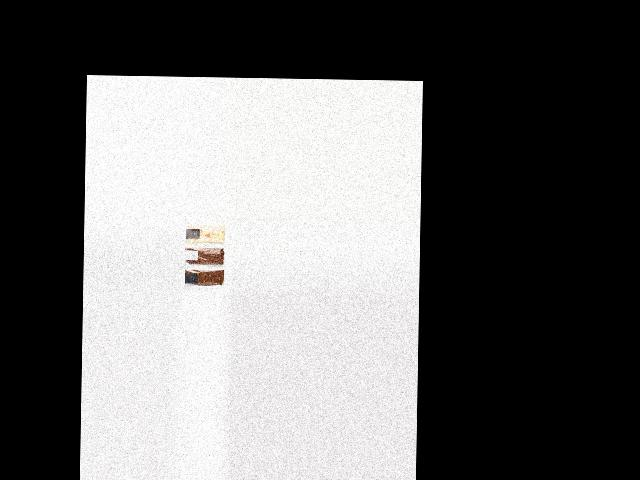chocolate: (184, 270, 226, 289)
